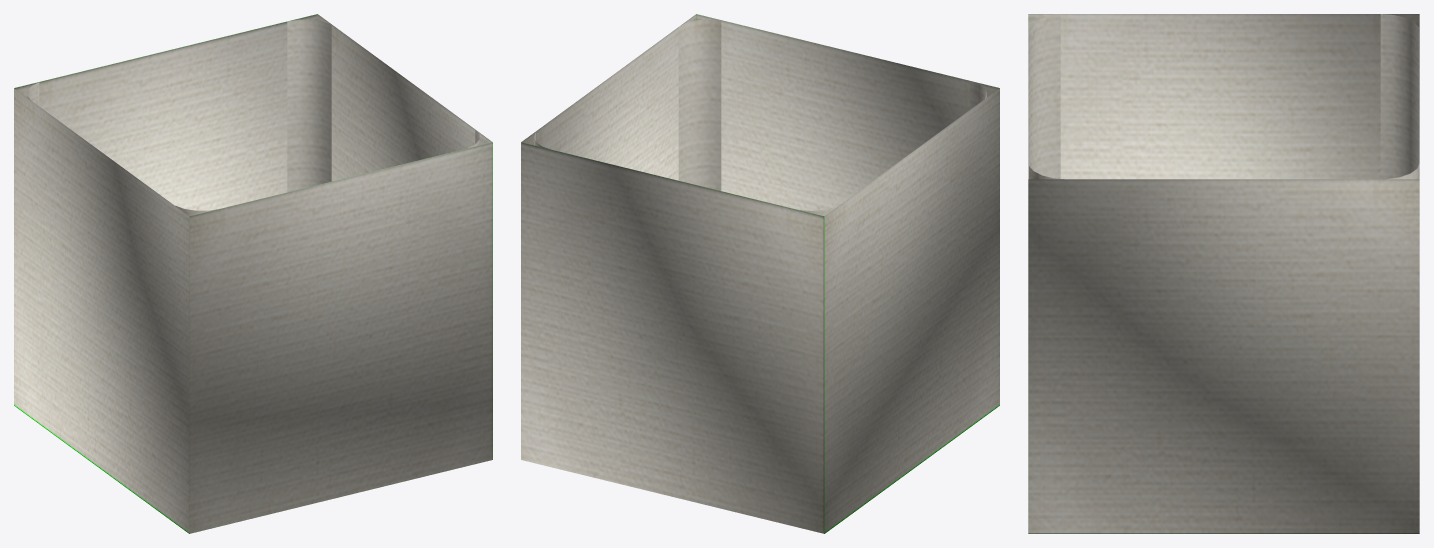
File: room.FBX
3 renders of one model, left to right at view 1: azimuth 30°, elevation 25°; view 2: azimuth 150°, elevation 25°; view 3: azimuth 270°, elevation 25°, orthographic. The views are drawn at different scales.
Visible parts, largest first — view 1: Box001; view 2: Box001; view 3: Box001.
Part boxes in pixels (left/top/right/bottom): Box001: left=14, top=14, right=492, bottom=533; Box001: left=521, top=14, right=999, bottom=533; Box001: left=1028, top=14, right=1419, bottom=533.
Bounding box in the file's own units: 50 × 50 × 50.
Materials: 1 (1 with a texture image).
